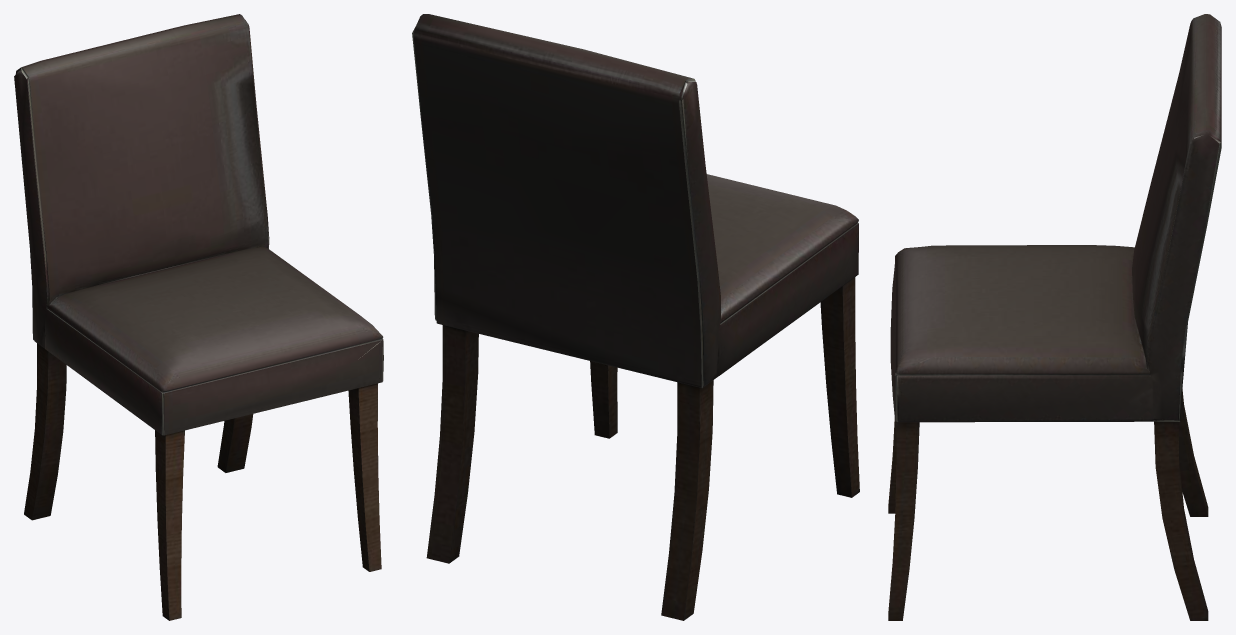
Rendered from raw_model.obj.
3 views of the same model, side by side, from view 1: azimuth 30°, elevation 25°; view 2: azimuth 150°, elevation 25°; view 3: azimuth 270°, elevation 25° (orthographic). The views are drawn at different scales.
Visible parts, largest first — view 1: Pullman_Side_Ivory; view 2: Pullman_Side_Ivory; view 3: Pullman_Side_Ivory.
Boxes of the visible parts, x1,y1,x2,y2 form: Pullman_Side_Ivory: (14,14,383,620); Pullman_Side_Ivory: (412,14,859,620); Pullman_Side_Ivory: (888,14,1221,620).
Size of the model in its own units: 0.4618 by 0.8594 by 0.5259.
Materials: 1 (1 with a texture image).
